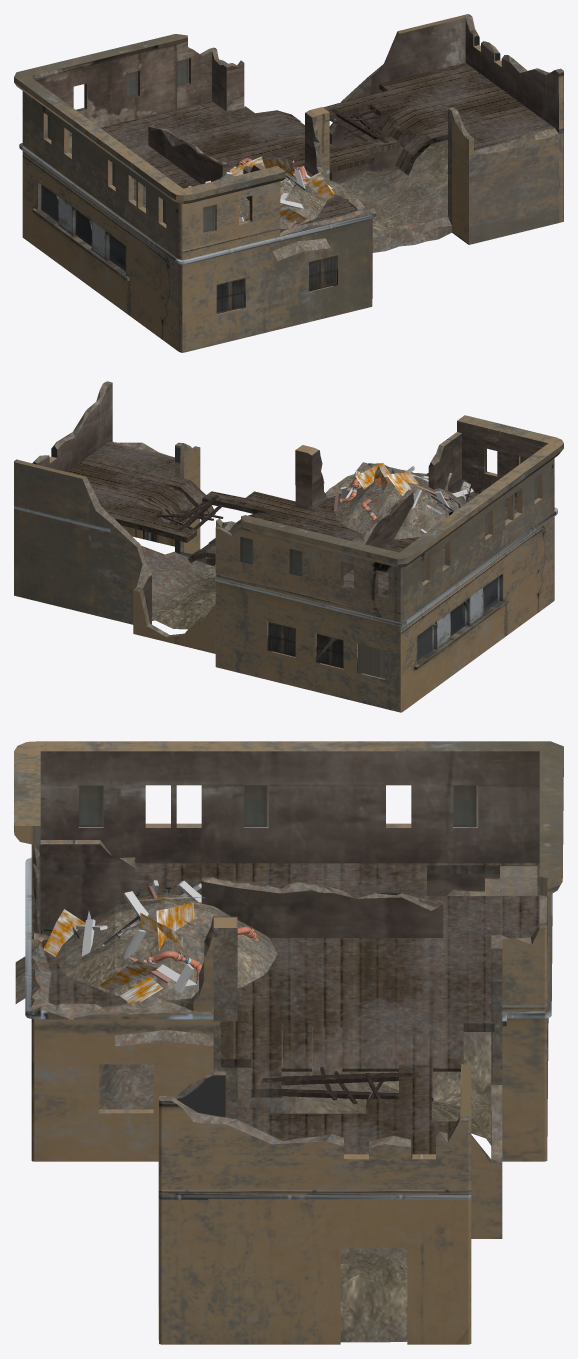
Rendered from TestPack_OutV6_start.fbx.
3 renders of one model, top to bottom at view 1: azimuth 30°, elevation 25°; view 2: azimuth 150°, elevation 25°; view 3: azimuth 270°, elevation 25°, orthographic. The views are drawn at different scales.
Parts seen in each view (by area): view 1: start_house.001, Plane.003; view 2: start_house.001, Plane.003; view 3: start_house.001, Plane.003.
Part boxes in pixels (x1=…): start_house.001: x1=14, y1=14, x2=563, y2=352; Plane.003: x1=188, y1=156, x2=334, y2=260; start_house.001: x1=14, y1=381, x2=563, y2=712; Plane.003: x1=334, y1=463, x2=473, y2=539; start_house.001: x1=14, y1=741, x2=563, y2=1344; Plane.003: x1=15, y1=880, x2=277, y2=1046.
Bounding box in the file's own units: 3667 × 1343 × 2498.
